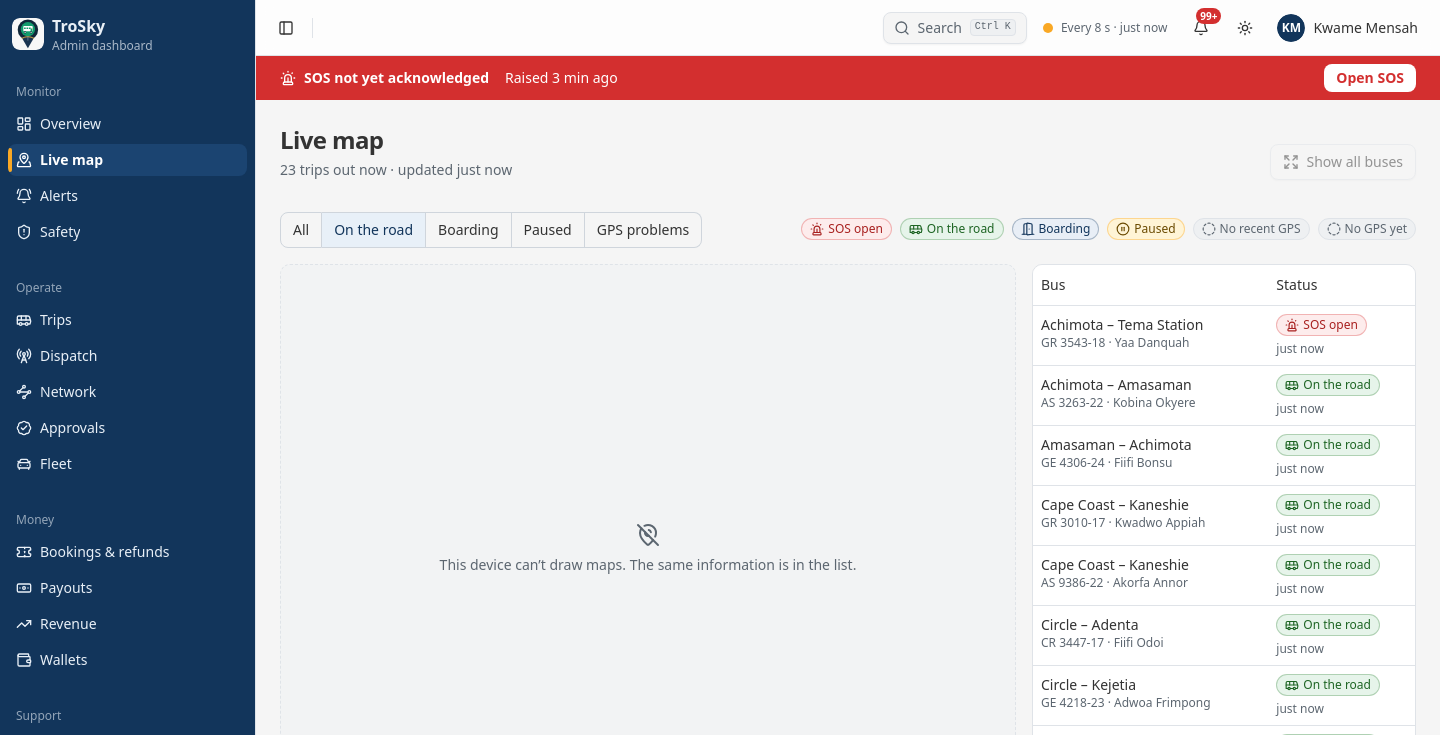
Test: Live map › opens a bus: its route, driver, live position and arrival time
The width and height of the screenshot is (1440, 735).
Click the button "Achimota – Amasaman AS 3263-22 · Kobina Okyere".
click(1118, 392)  # box [1041,374,1196,410]
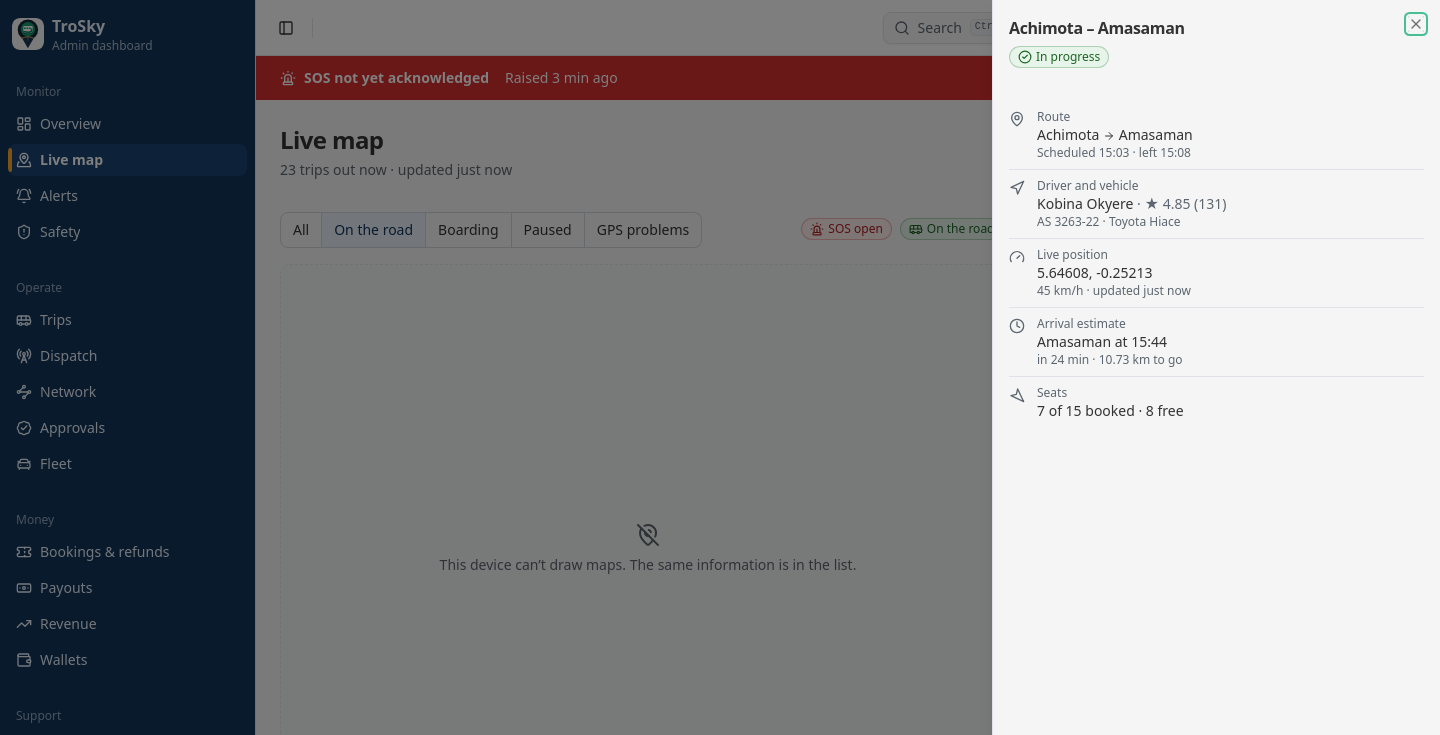
Now the text "Driver and vehicle" is shown, box [1037,177,1138,194]
Now the text "45 km/h · updated just now" is shown, box [1037,283,1191,299]
Now the text "in 24 min · 10.73 km to go" is shown, box [1037,352,1183,368]
